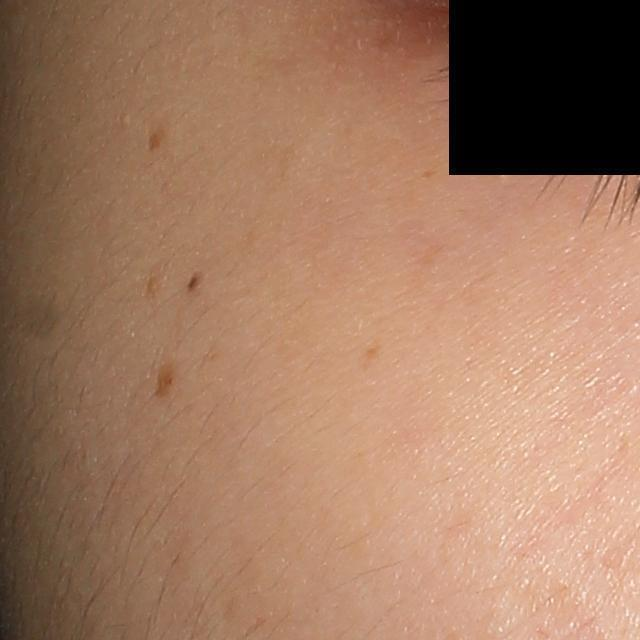melasma: (143, 259, 173, 305), (152, 360, 176, 404), (144, 124, 170, 155), (421, 167, 437, 178)
nevus: (187, 269, 206, 292)
